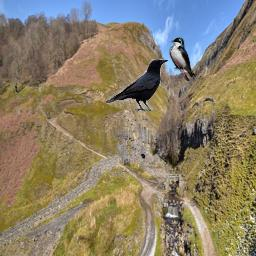Crow: (105, 59, 168, 111)
Swallow: (169, 37, 196, 81)
